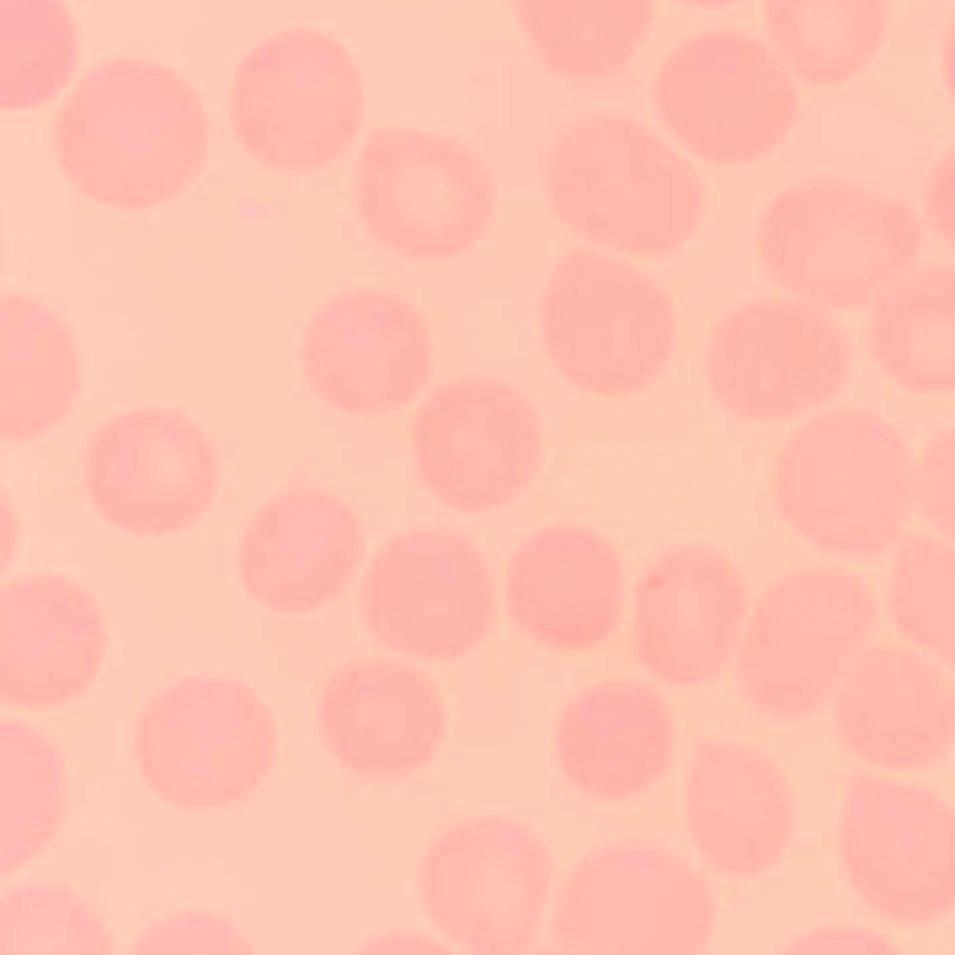Uninfected: (55, 58, 206, 209), (543, 243, 681, 399), (745, 568, 878, 722), (830, 766, 955, 927), (547, 831, 709, 955), (135, 668, 281, 804), (548, 118, 702, 242), (760, 178, 914, 300), (88, 403, 221, 540), (655, 33, 789, 167), (232, 28, 363, 165), (710, 293, 851, 420), (348, 123, 486, 252), (788, 413, 913, 554), (423, 813, 548, 946), (360, 526, 489, 654), (623, 548, 743, 682), (838, 633, 955, 769), (230, 491, 364, 609), (413, 381, 536, 509), (303, 293, 426, 415), (325, 653, 446, 776), (509, 521, 624, 647), (0, 576, 108, 707), (563, 676, 671, 807), (683, 741, 791, 871)
